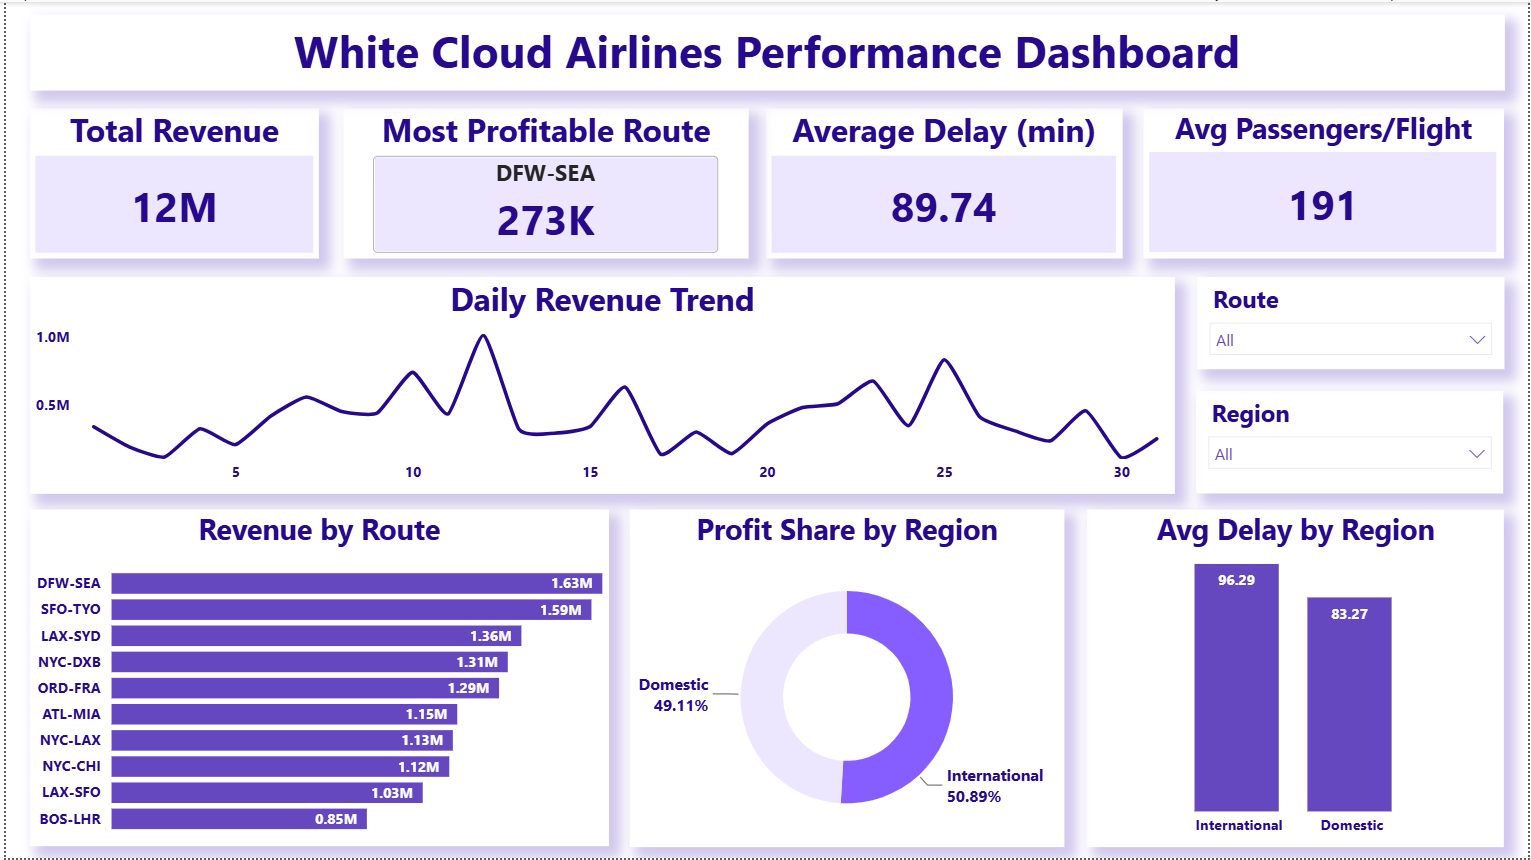

The page's visual inventory and layout, read from the dashboard file:
{"tool":"powerbi","page":{"name":"Dashboard","canvas":[1280,720],"ordinal":0},"visuals":[{"type":"cardVisual","title":"Total Revenue","fields":{"Data":["Sum(AirlinePerformance.Revenue)"]},"box":[19.5,89.3,243.3,126.3],"z":0},{"type":"cardVisual","title":"Average Delay (min)","fields":{"Data":["Avg(AirlinePerformance.DelayMin)"]},"box":[639.6,89.3,299.8,126.3],"z":1000},{"type":"cardVisual","title":"Avg Passengers/Flight","fields":{"Data":["Avg(AirlinePerformance.Passengers)"]},"box":[956.8,89.3,302.9,126.3],"z":2000},{"type":"cardVisual","title":"Most Profitable    Route","fields":{"Data":["Sum(AirlinePerformance.Profit)"],"Rows":["AirlinePerformance.Route"]},"box":[284.4,89.3,340.8,126.3],"z":3000},{"type":"textbox","box":[19.6,10.8,1240.5,63.7],"z":4000},{"type":"slicer","fields":{"Values":["AirlinePerformance.Region"]},"box":[1001.4,327.3,258.7,86.2],"z":5000},{"type":"slicer","fields":{"Values":["AirlinePerformance.Route"]},"box":[1001.9,231.5,258.2,77.9],"z":6000},{"type":"lineChart","title":"Daily Revenue Trend","fields":{"Y":["Sum(AirlinePerformance.Revenue)"],"Category":["AirlinePerformance.Date.Variation.Date Hierarchy.Day"]},"box":[19.6,231.2,963.2,182.3],"z":7000},{"type":"clusteredBarChart","title":"Revenue by Route","fields":{"Category":["AirlinePerformance.Route"],"Y":["Sum(AirlinePerformance.Revenue)"]},"box":[19.6,427.2,487,283.2],"z":8000},{"type":"columnChart","title":"Avg Delay by Region","fields":{"Category":["AirlinePerformance.Region"],"Y":["Avg(AirlinePerformance.DelayMin)"]},"box":[909.3,427.2,350.8,284.2],"z":9000},{"type":"donutChart","title":"Profit Share by Region","fields":{"Category":["AirlinePerformance.Region"],"Y":["Sum(AirlinePerformance.Profit)"]},"box":[524.2,427.2,365.5,284.2],"z":10000}]}

Visuals, with their boxes in screenshot pixels (x1, y1, x2, y2), scaled from the page's 1280x720 canvas onto the 1531x860 screenshot:
"Total Revenue" cardVisual: {"x1": 23, "y1": 107, "x2": 314, "y2": 258}
"Average Delay (min)" cardVisual: {"x1": 765, "y1": 107, "x2": 1124, "y2": 258}
"Avg Passengers/Flight" cardVisual: {"x1": 1144, "y1": 107, "x2": 1507, "y2": 258}
"Most Profitable    Route" cardVisual: {"x1": 340, "y1": 107, "x2": 748, "y2": 258}
textbox: {"x1": 23, "y1": 13, "x2": 1507, "y2": 89}
slicer - AirlinePerformance.Region: {"x1": 1198, "y1": 391, "x2": 1507, "y2": 494}
slicer - AirlinePerformance.Route: {"x1": 1198, "y1": 277, "x2": 1507, "y2": 370}
"Daily Revenue Trend" lineChart: {"x1": 23, "y1": 276, "x2": 1176, "y2": 494}
"Revenue by Route" clusteredBarChart: {"x1": 23, "y1": 510, "x2": 606, "y2": 849}
"Avg Delay by Region" columnChart: {"x1": 1088, "y1": 510, "x2": 1507, "y2": 850}
"Profit Share by Region" donutChart: {"x1": 627, "y1": 510, "x2": 1064, "y2": 850}
